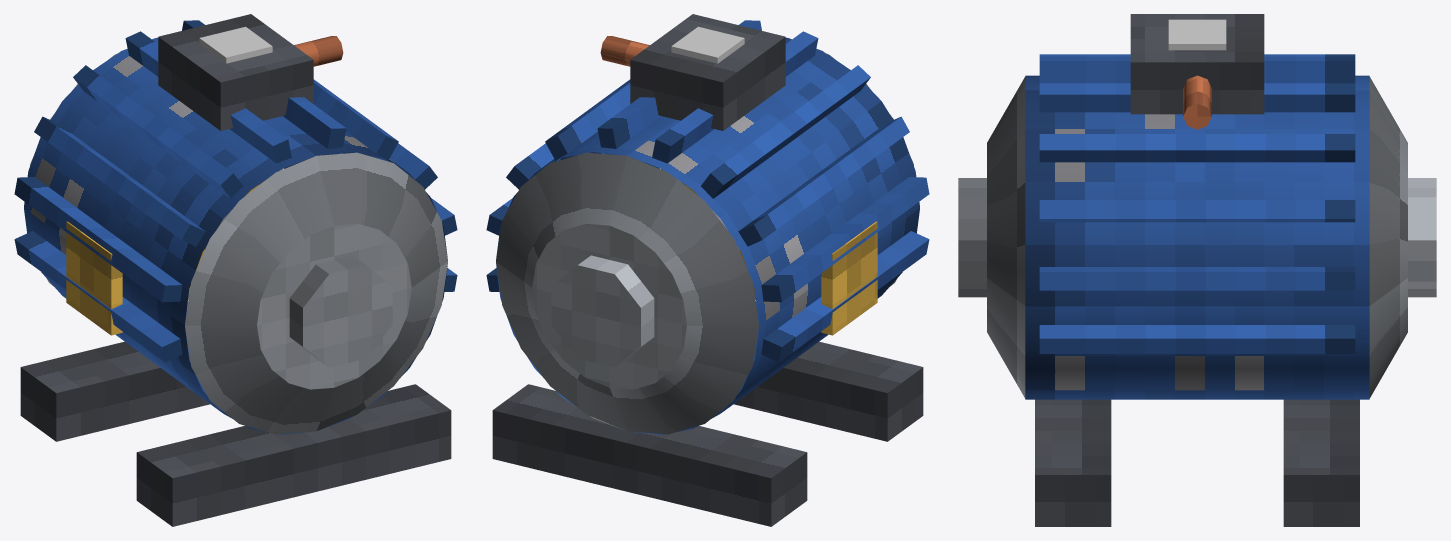
The model's file is generator.obj.
3 views of the same model, side by side, from view 1: azimuth 30°, elevation 25°; view 2: azimuth 150°, elevation 25°; view 3: azimuth 270°, elevation 25° (orthographic). The views are drawn at different scales.
Bounding box in the file's own units: 0.763 × 0.975 × 1.
